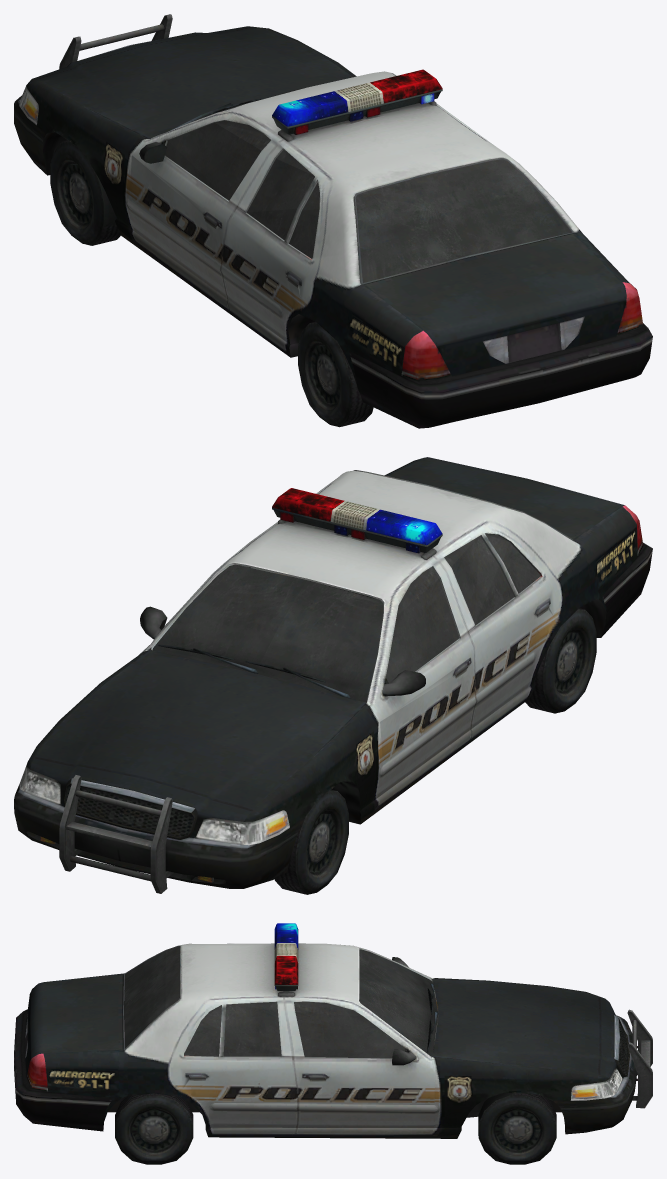
File: cop3.FBX
The picture shows the model from 3 angles, top to bottom: view 1: azimuth 30°, elevation 25°; view 2: azimuth 150°, elevation 25°; view 3: azimuth 270°, elevation 25°; orthographic projection. The views are drawn at different scales.
Visible parts, largest first — view 1: Police car; view 2: Police car; view 3: Police car.
Boxes of the visible parts, bbox=[...] form: Police car: bbox=[14, 14, 652, 428]; Police car: bbox=[14, 457, 652, 894]; Police car: bbox=[14, 923, 652, 1164].
Size of the model in its own units: 222 by 177 by 593.
